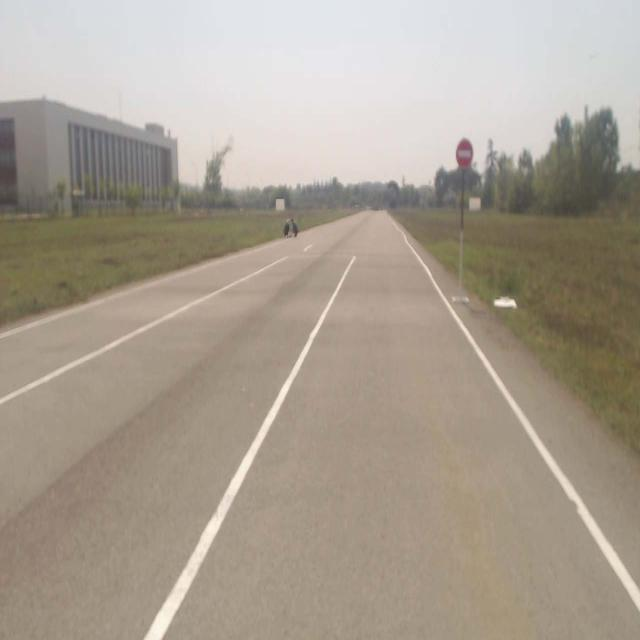girisyok: (456, 140, 474, 170)
